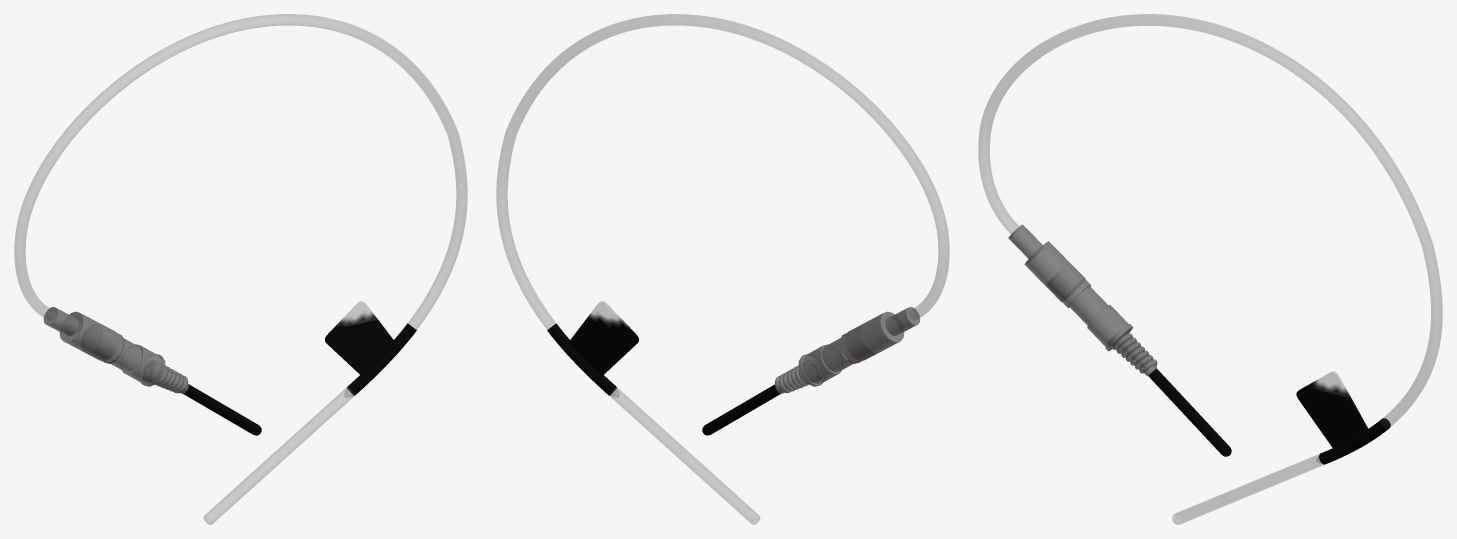
Rendered from 一次性采血针.glb.
3 views of the same model, side by side, from view 1: azimuth 30°, elevation 25°; view 2: azimuth 150°, elevation 25°; view 3: azimuth 330°, elevation 25° (orthographic). The views are drawn at different scales.
Parts seen in each view (by area): view 1: Line002, Box001, Cylinder001, Cylinder005, 对象002, Cylinder003, Line003, Helix001, 对象001; view 2: Line002, Box001, Cylinder001, Cylinder005, 对象002, Cylinder003, Line003, Helix001, 对象001; view 3: Line002, Box001, Cylinder001, Cylinder005, 对象002, Cylinder003, Helix001, Line003, 对象001.
Part boxes in pixels (x1,y1,x2,y2): Line002: (14, 14, 467, 329); Box001: (325, 301, 394, 375); Cylinder001: (81, 323, 165, 386); Cylinder005: (204, 387, 354, 524); 对象002: (59, 311, 118, 361); Cylinder003: (183, 384, 261, 435); Line003: (347, 323, 416, 395); Helix001: (143, 360, 188, 393); 对象001: (43, 307, 78, 335); Line002: (496, 14, 949, 329); Box001: (569, 301, 638, 375); Cylinder001: (798, 323, 882, 386); Cylinder005: (609, 387, 759, 524); 对象002: (845, 311, 904, 361); Cylinder003: (702, 384, 780, 435); Line003: (547, 323, 616, 395); Helix001: (774, 360, 822, 393); 对象001: (885, 307, 920, 335); Line002: (978, 14, 1442, 427); Box001: (1296, 371, 1368, 448); Cylinder001: (1046, 263, 1132, 351); Cylinder005: (1172, 454, 1323, 524); 对象002: (1024, 241, 1085, 301); Cylinder003: (1148, 368, 1231, 456); Helix001: (1108, 329, 1157, 373); Line003: (1319, 418, 1390, 464); 对象001: (1008, 224, 1043, 260).
Bounding box in the file's own units: 0.0109 × 0.0115 × 0.000711.
Materials: 1 (1 with a texture image).
